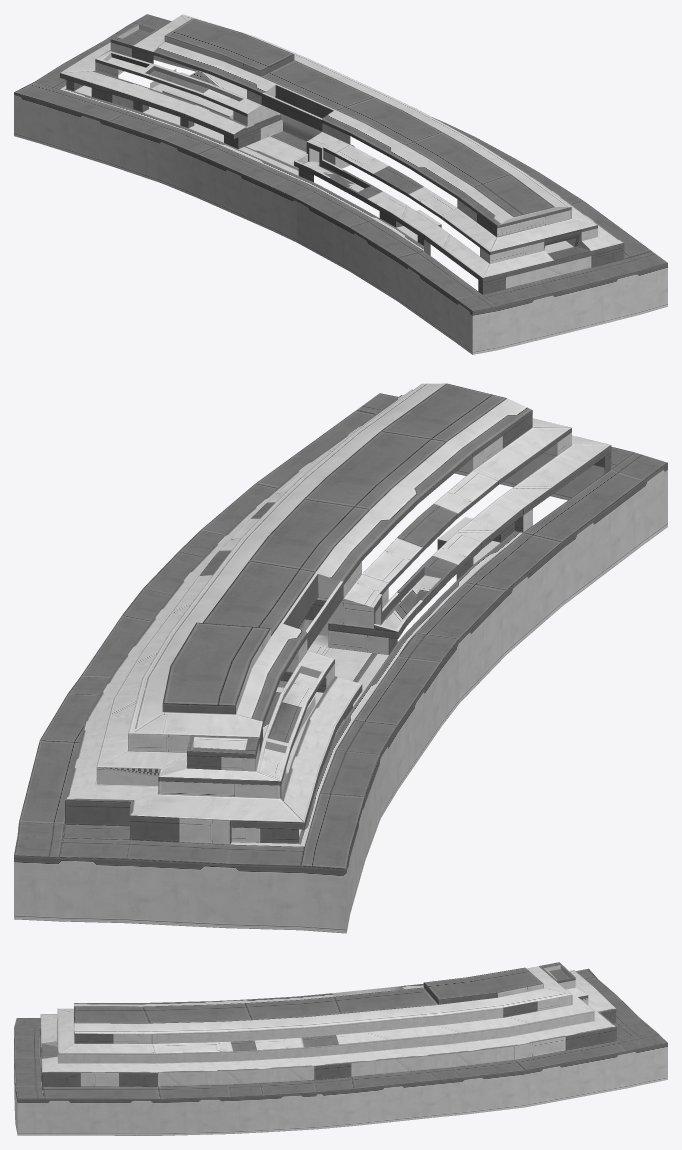
File: PRS_VISTABUILDING.FBX
3 views of the same model, one above another, from view 1: azimuth 30°, elevation 25°; view 2: azimuth 150°, elevation 25°; view 3: azimuth 270°, elevation 25° (orthographic). The views are drawn at different scales.
Visible parts, largest first — view 1: PRS_VISTABUILDING; view 2: PRS_VISTABUILDING; view 3: PRS_VISTABUILDING.
Boxes of the visible parts, x1,y1,x2,y2 form: PRS_VISTABUILDING: (14,14,667,354); PRS_VISTABUILDING: (14,383,667,933); PRS_VISTABUILDING: (14,962,667,1135).
Bounding box in the file's own units: 86.37 × 26.17 × 183.
